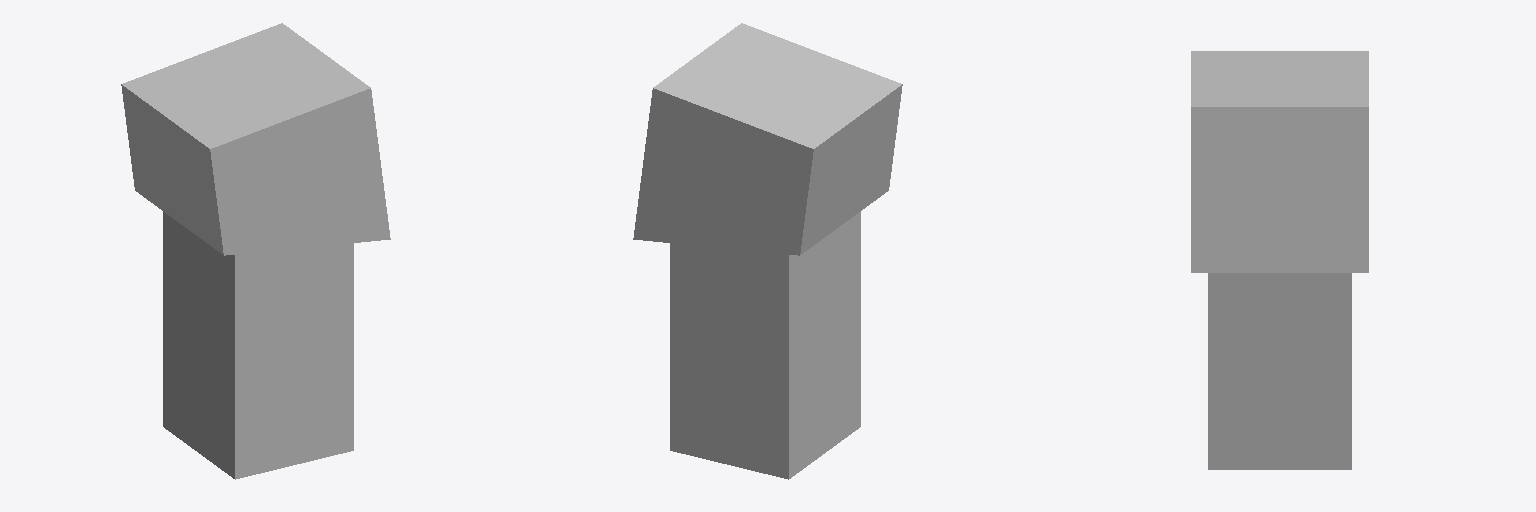
The model's file is float_R_arm.obj.
The picture shows the model from 3 angles: view 1: azimuth 30°, elevation 25°; view 2: azimuth 150°, elevation 25°; view 3: azimuth 270°, elevation 25°; orthographic projection.
Visible parts, largest first — view 1: 立方体.001; view 2: 立方体.001; view 3: 立方体.001.
Boxes of the visible parts, x1,y1,x2,y2 form: 立方体.001: [121, 23, 390, 479]; 立方体.001: [633, 23, 902, 479]; 立方体.001: [1191, 51, 1368, 469].
Bounding box in the file's own units: 0.7465 × 1.45 × 0.6368.